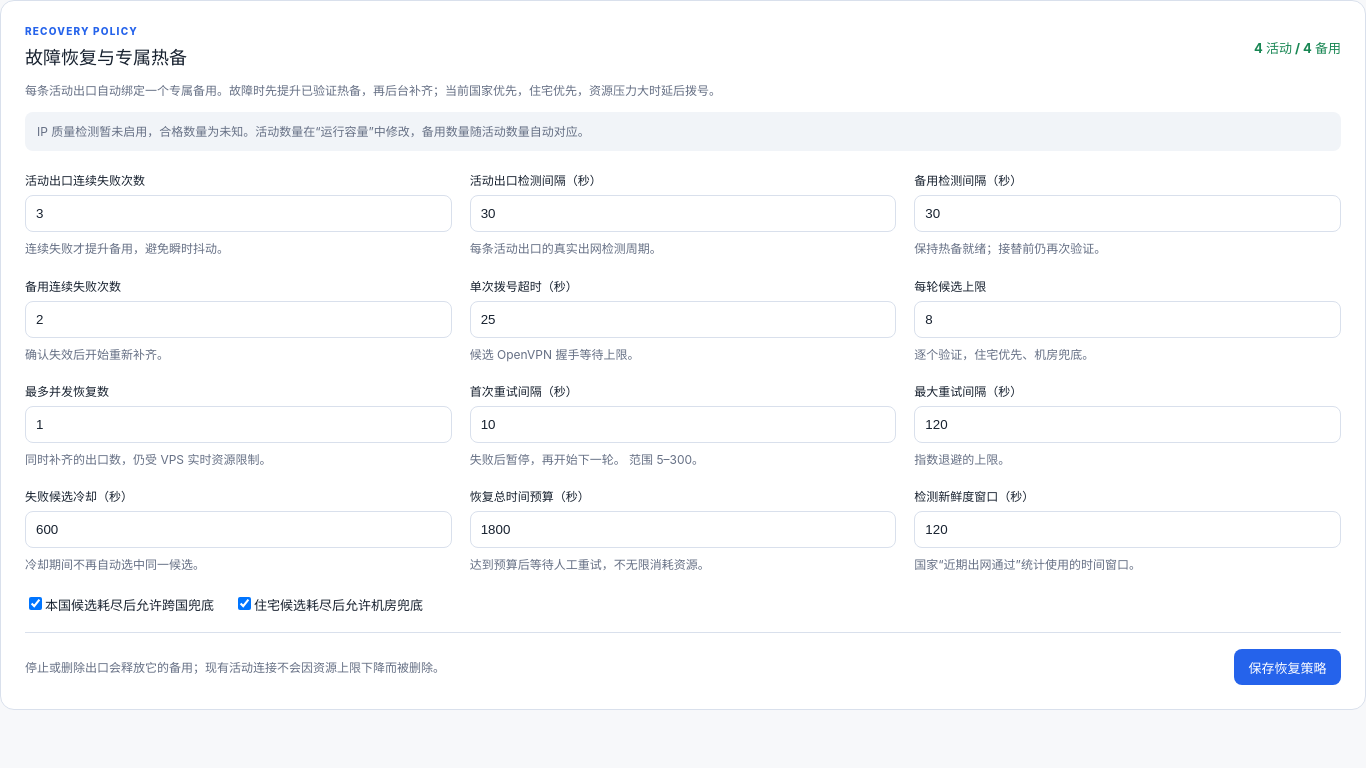
Test: shows editable recovery policy, paired counts and explicitly unavailable quality
Replace the text in the number field labelled "首次重试间隔（秒） 失败后暂停，再开始下一轮。 范围 5–300。" with "20": x=683, y=424 [470,406,896,443]
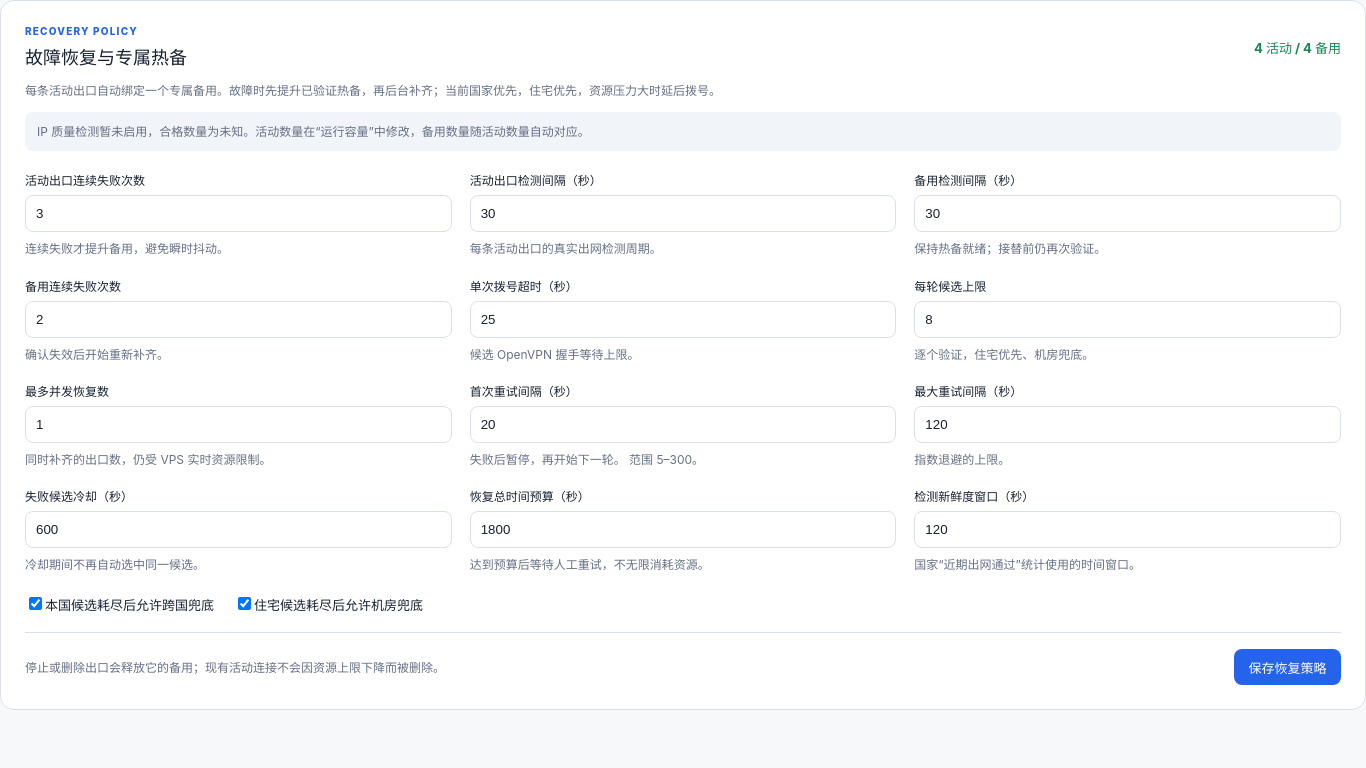
Submit the form
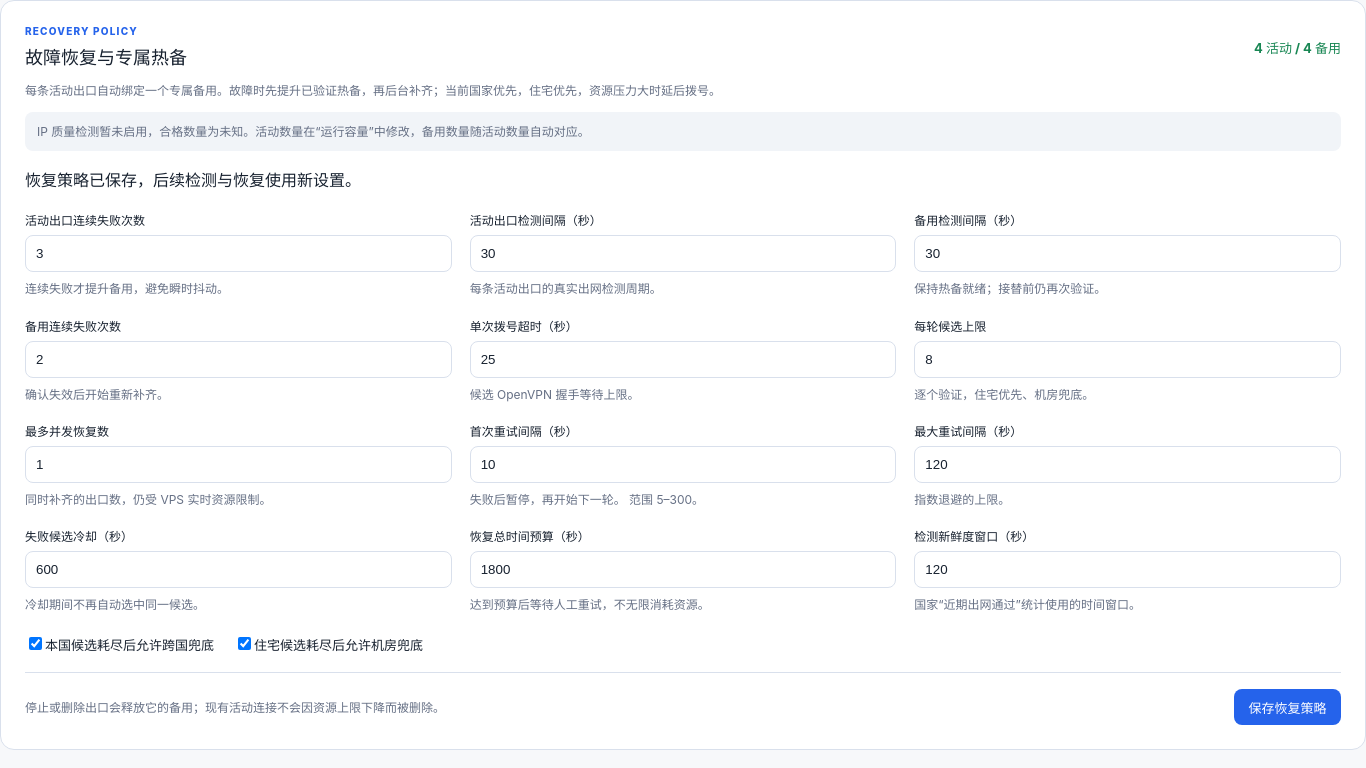
Check: the text "已保存" is shown, box [25,170,361,190]
